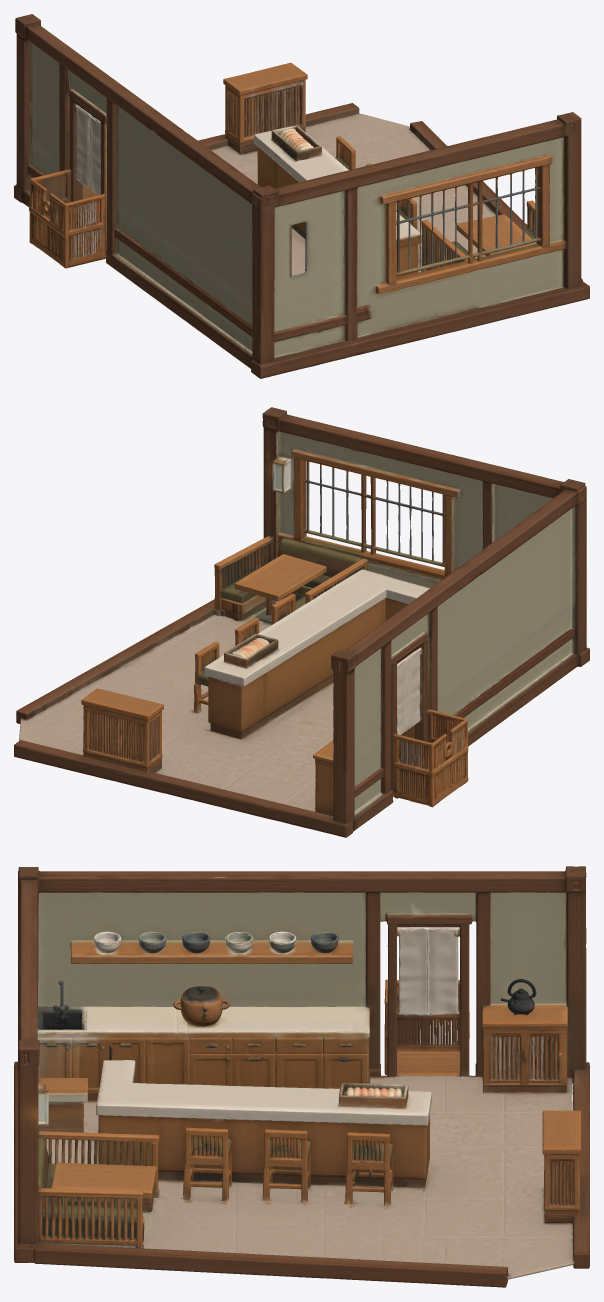
Rendered from sushi-room-v5.glb.
3 views of the same model, one above another, from view 1: azimuth 30°, elevation 25°; view 2: azimuth 150°, elevation 25°; view 3: azimuth 270°, elevation 25° (orthographic). The views are drawn at different scales.
Parts seen in each view (by area): view 1: tripo_node_7dd9ac38-ffac-4950-bbb6-2fdc2ec63730; view 2: tripo_node_7dd9ac38-ffac-4950-bbb6-2fdc2ec63730; view 3: tripo_node_7dd9ac38-ffac-4950-bbb6-2fdc2ec63730.
Boxes of the visible parts, x1,y1,x2,y2 form: tripo_node_7dd9ac38-ffac-4950-bbb6-2fdc2ec63730: (14,14,589,378); tripo_node_7dd9ac38-ffac-4950-bbb6-2fdc2ec63730: (14,407,589,837); tripo_node_7dd9ac38-ffac-4950-bbb6-2fdc2ec63730: (14,866,589,1287).
Size of the model in its own units: 2.35 by 1 by 2.46.
Materials: 1 (1 with a texture image).
